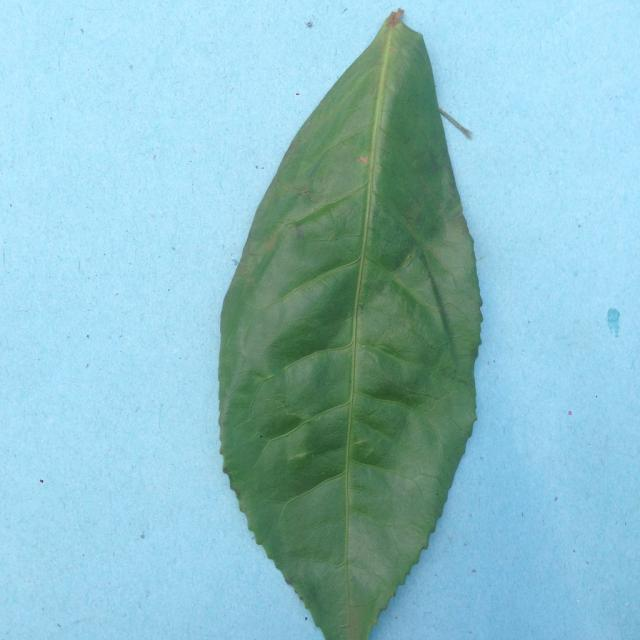Healthy: (213, 0, 496, 640)
